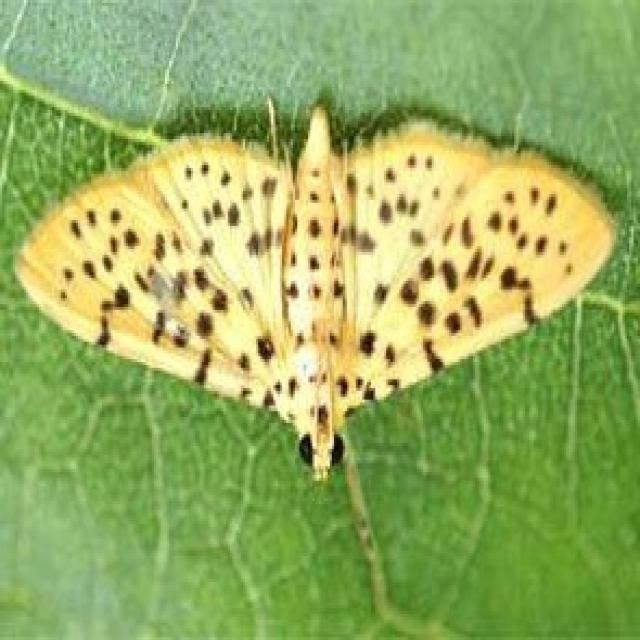peach borer: (10, 91, 622, 479)
